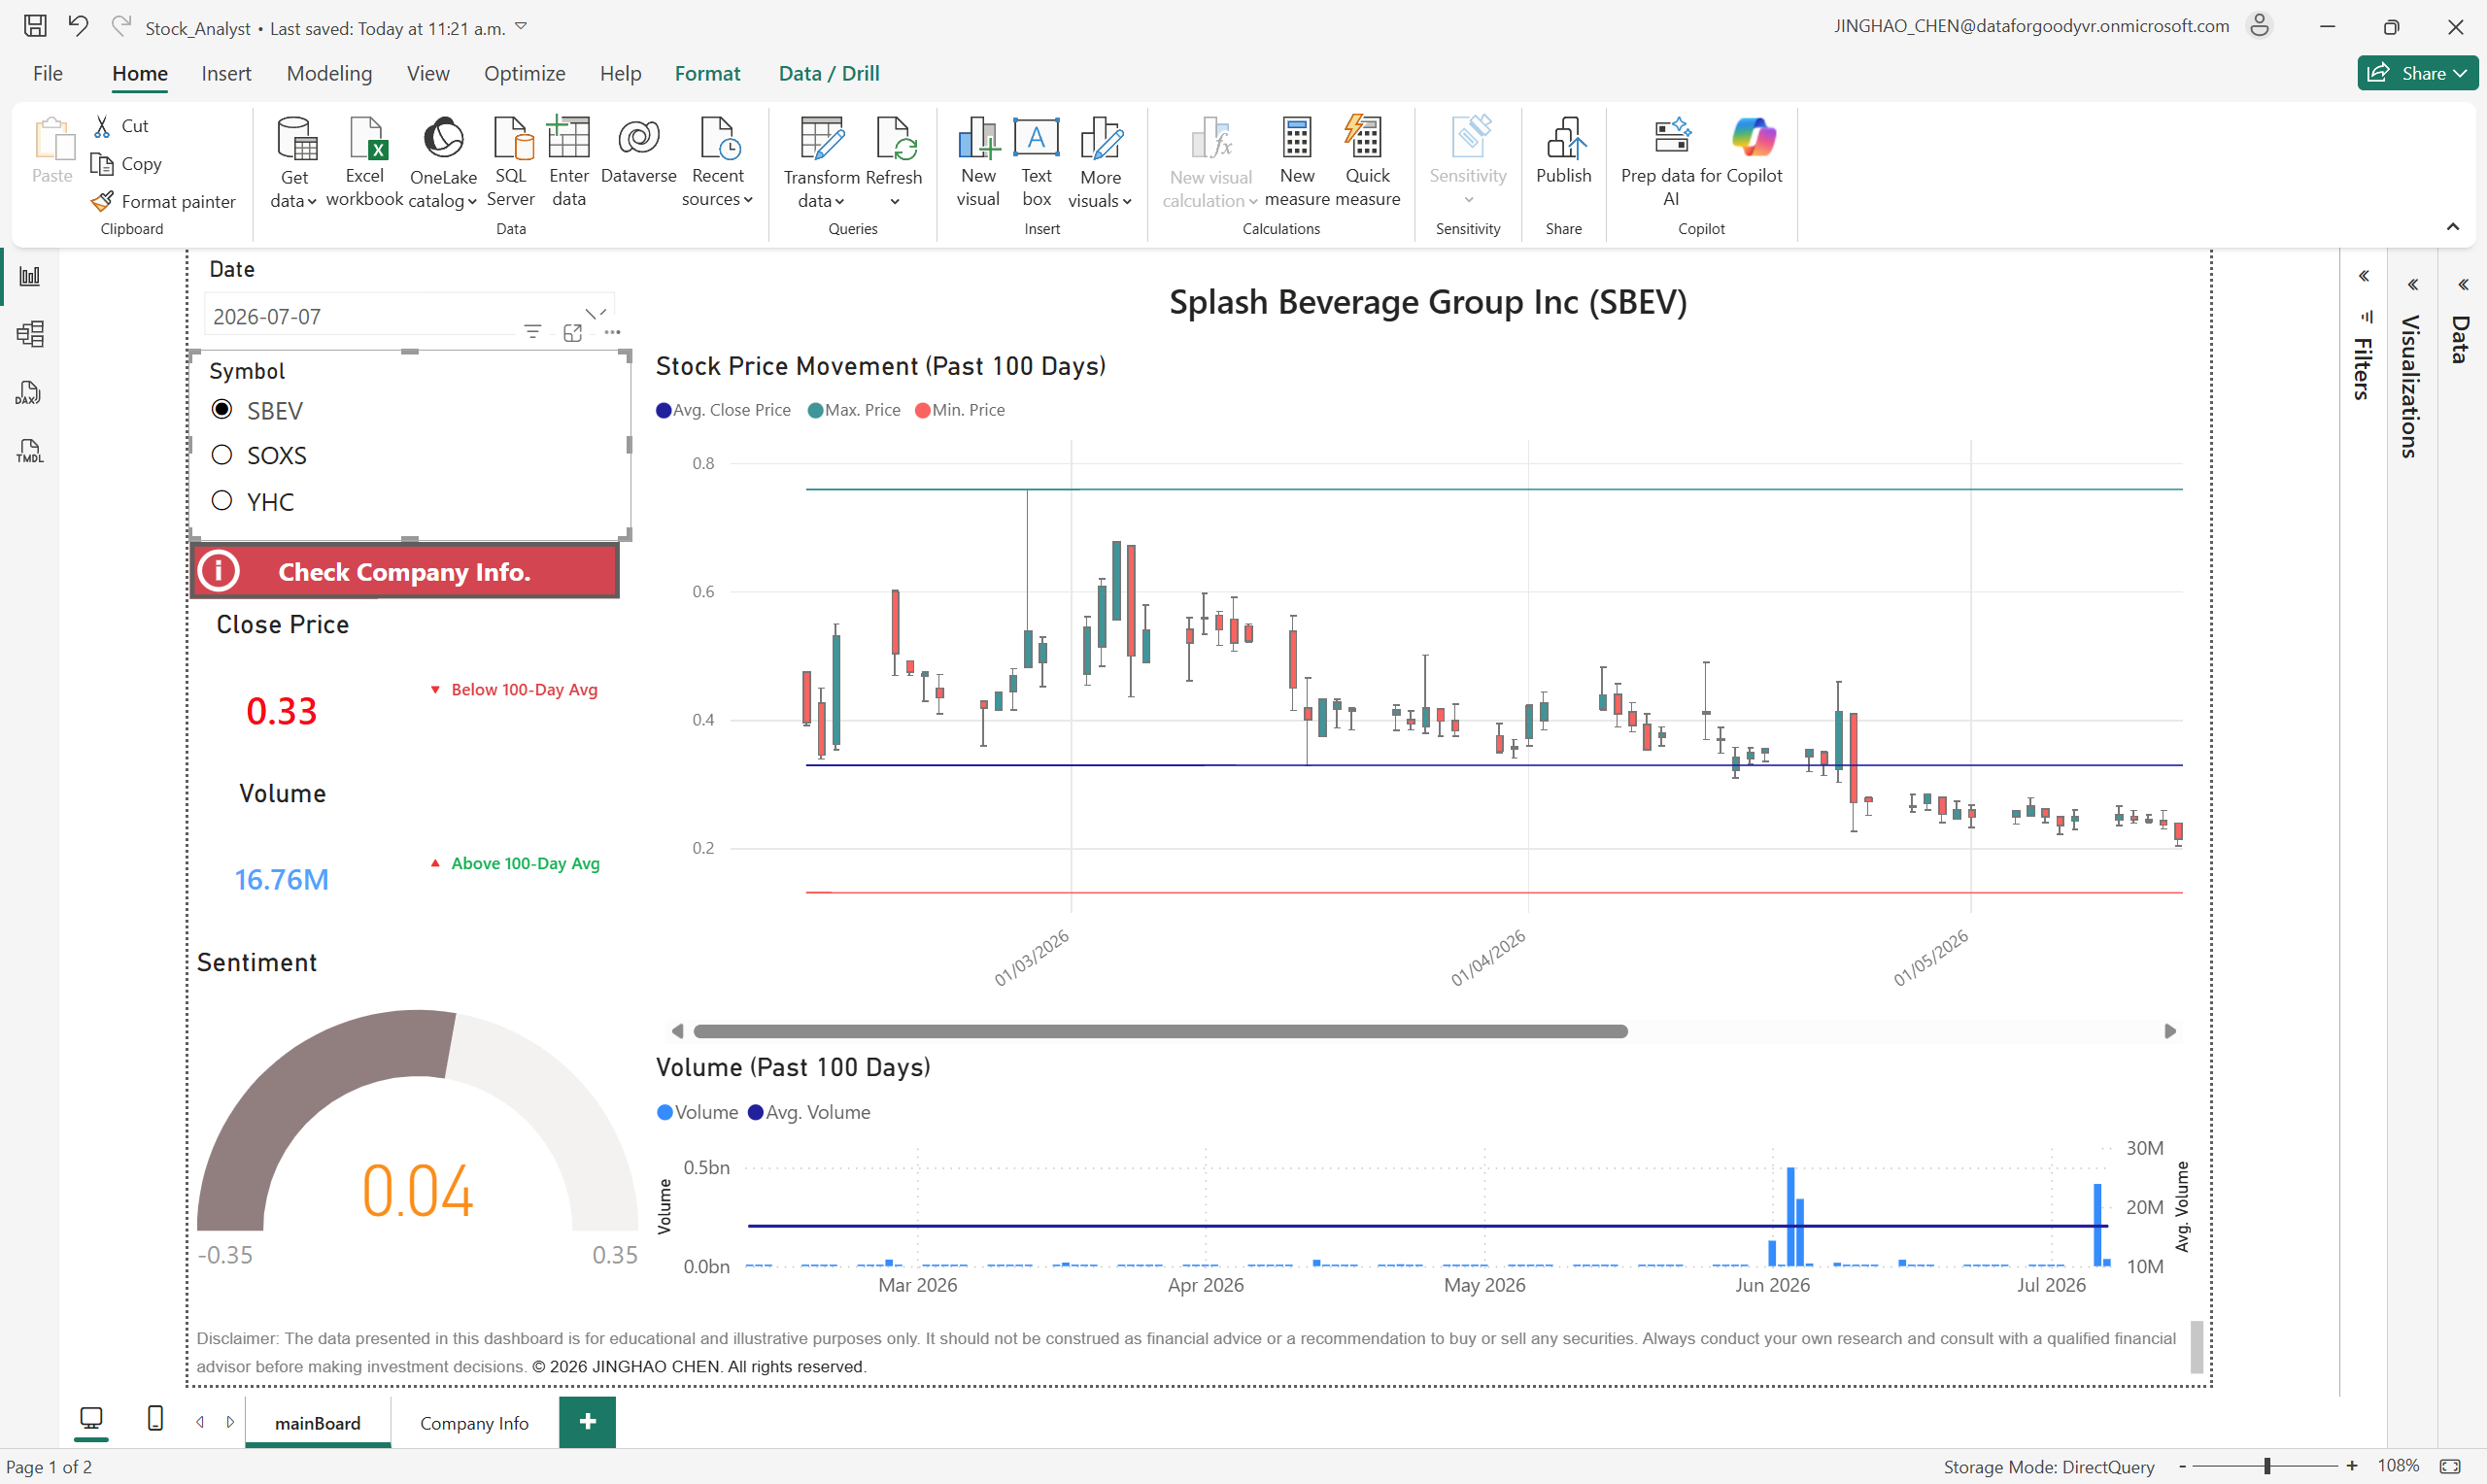

Layout of this report page (visuals, bound fields, positions):
{"tool":"powerbi","page":{"name":"mainBoard","canvas":[1280,720],"ordinal":0},"visuals":[{"type":"slicer","fields":{"Values":["mart_daily_stock_summary.extract_date"]},"box":[0,0,280.1,64.3],"z":0},{"type":"slicer","fields":{"Values":["mart_daily_stock_summary.symbol"]},"box":[0,64.3,280.1,121.4],"z":1000},{"type":"cardVisual","title":"Close Price","fields":{"Data":["Avg(mart_daily_stock_summary.avg_close_price_past_100days)"]},"box":[-0.3,227.6,119.9,106.9],"z":2000},{"type":"gauge","title":"Sentiment","fields":{"Y":["Sum(mart_daily_stock_summary.avg_sentiment_score)"]},"box":[0,442.1,289.6,232.6],"z":3000},{"type":"cardVisual","title":"Volume","fields":{"Data":["Sum(mart_daily_stock_summary.avg_volume_past_100days)"]},"box":[0,334.7,119.6,107.1],"z":4000},{"type":"PBI_CV_886A053E_9DFD_4EA0_A47D_CCAEB89AF969","title":"Stock Price Movement (Past 100 Days)","fields":{"open":["Sum(stg_prices.open_price)"],"low":["Sum(stg_prices.low_price)"],"high":["Sum(stg_prices.high_price)"],"close":["Sum(stg_prices.close_price)"],"Category":["stg_prices.trade_date"],"trends":["Sum(mart_daily_stock_summary.avg_close_price_past_100days)","Sum(mart_daily_stock_summary.max_price_past_100days)","Sum(mart_daily_stock_summary.min_price_past_100days)"]},"box":[290.8,64.4,981.7,444.2],"z":5000},{"type":"cardVisual","fields":{"Data":["business_info.Dynamic_Dashboard_Title"]},"box":[290.3,0,989.7,64.6],"z":6000},{"type":"actionButton","title":"Company Info.","box":[0.9,185.9,272,36.3],"z":7000},{"type":"textbox","box":[0,674.5,1280,45],"z":8000},{"type":"lineClusteredColumnComboChart","title":"Volume (Past 100 Days)","fields":{"Y":["Sum(stg_prices.volume)"],"Category":["stg_prices.trade_date"],"Y2":["Sum(mart_daily_stock_summary.avg_volume_past_100days)"]},"box":[290.8,508.6,981.7,166.3],"z":9000},{"type":"cardVisual","fields":{"Data":["stg_prices.Price_Status_Text"]},"box":[119.5,222.7,171.7,112.5],"z":10000},{"type":"cardVisual","fields":{"Data":["stg_prices.Volume_Status_Text"]},"box":[119.7,334.6,169.6,107.9],"z":11000}]}

Visuals, with their boxes on the page's 1280x720 design canvas (x1, y1, x2, y2). These are canvas units, not pixel positions in the 2487x1484 screenshot, which may show the page scaled, cropped or inside an application window:
slicer - mart_daily_stock_summary.extract_date: {"left": 0, "top": 0, "right": 280, "bottom": 64}
slicer - mart_daily_stock_summary.symbol: {"left": 0, "top": 64, "right": 280, "bottom": 186}
"Close Price" cardVisual: {"left": 0, "top": 228, "right": 120, "bottom": 334}
"Sentiment" gauge: {"left": 0, "top": 442, "right": 290, "bottom": 675}
"Volume" cardVisual: {"left": 0, "top": 335, "right": 120, "bottom": 442}
"Stock Price Movement (Past 100 Days)" PBI_CV_886A053E_9DFD_4EA0_A47D_CCAEB89AF969: {"left": 291, "top": 64, "right": 1272, "bottom": 509}
cardVisual - business_info.Dynamic_Dashboard_Title: {"left": 290, "top": 0, "right": 1280, "bottom": 65}
"Company Info." actionButton: {"left": 1, "top": 186, "right": 273, "bottom": 222}
textbox: {"left": 0, "top": 674, "right": 1280, "bottom": 720}
"Volume (Past 100 Days)" lineClusteredColumnComboChart: {"left": 291, "top": 509, "right": 1272, "bottom": 675}
cardVisual - stg_prices.Price_Status_Text: {"left": 120, "top": 223, "right": 291, "bottom": 335}
cardVisual - stg_prices.Volume_Status_Text: {"left": 120, "top": 335, "right": 289, "bottom": 442}
